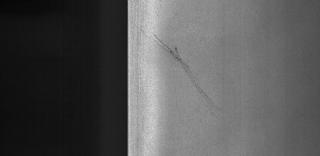water spot: (150, 29, 228, 117)
